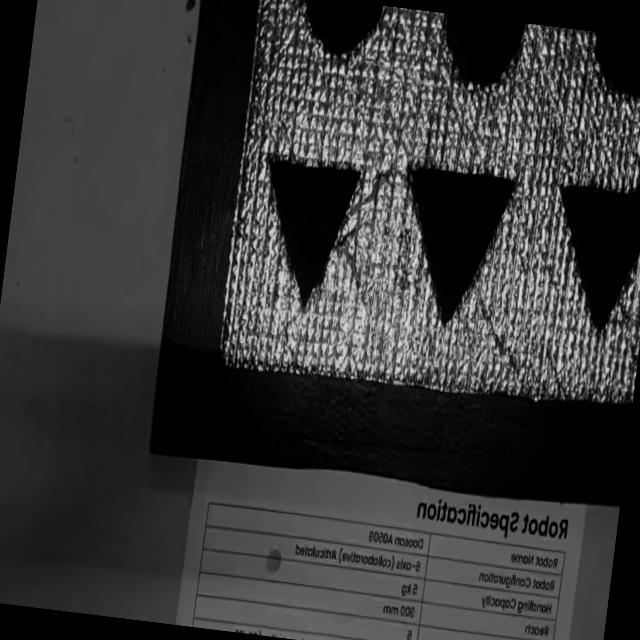mtcircle: (436, 14, 526, 95), (292, 0, 385, 66), (584, 33, 640, 104)
mttriangle: (388, 161, 520, 333), (249, 154, 363, 316), (539, 181, 640, 340)
wb: (208, 0, 640, 428)
